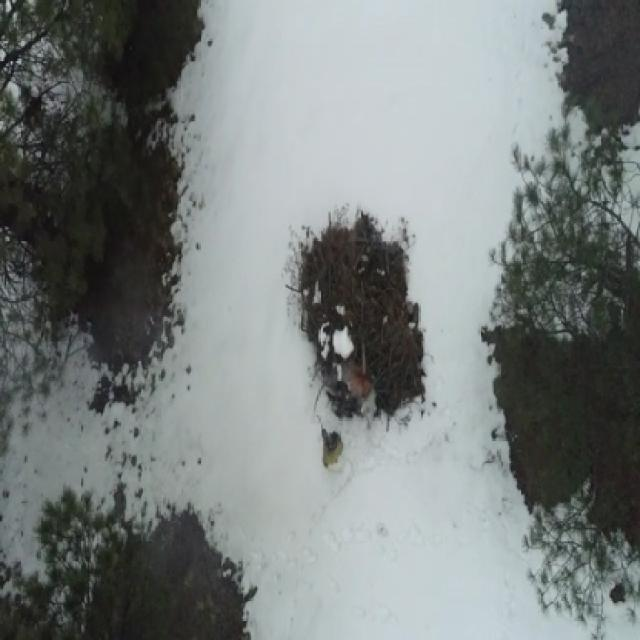Fire: (354, 372, 375, 390)
